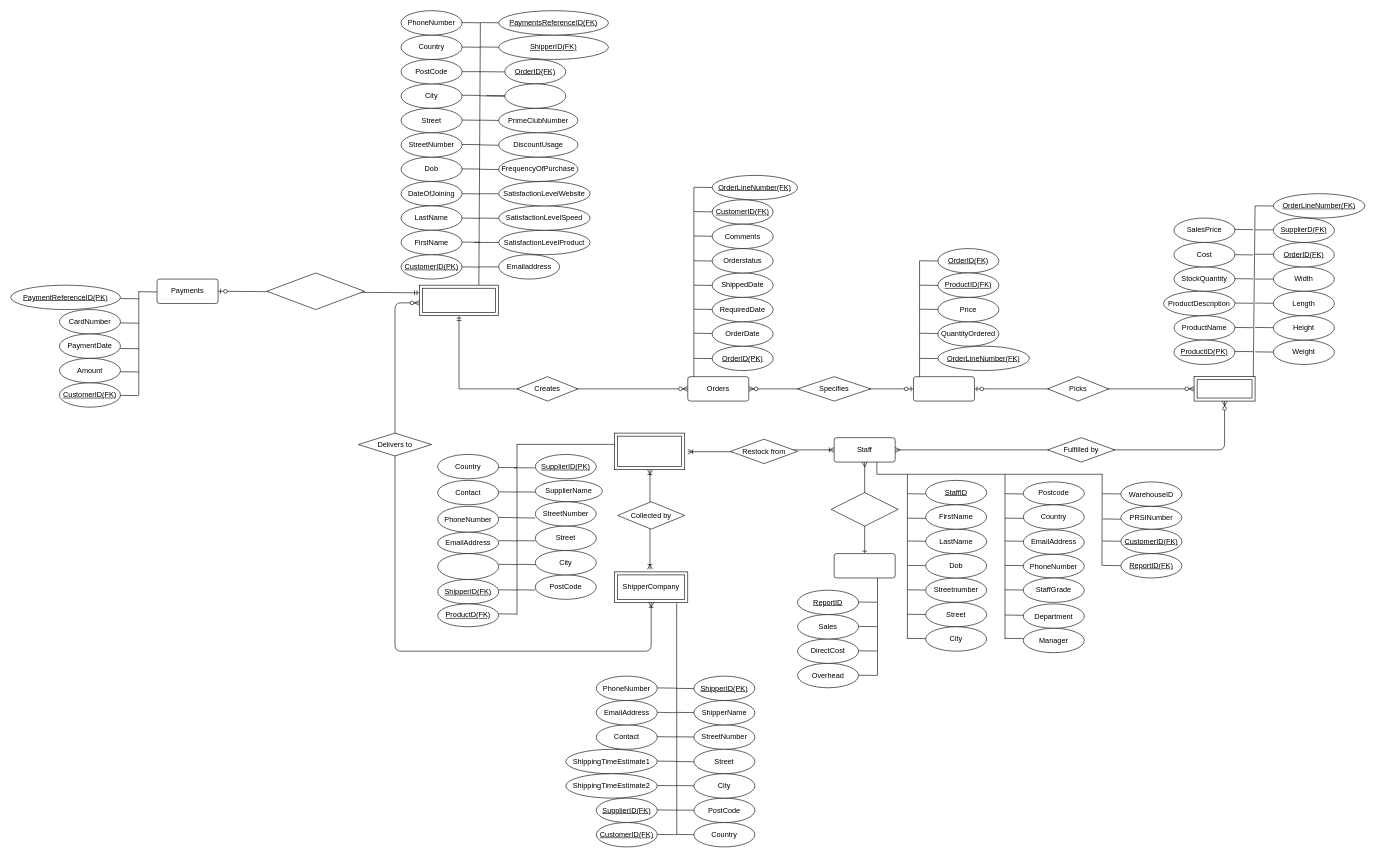
Some shapes in this 1376 by 858 pixel diagram are drawn without their labels. Here are the shapes that lost their labels. From the top down, the centre of each, then its label:
At pixel 535 95: "StaffID{FK)".
At pixel 315 291: "Holds payment details".
At pixel 459 300: "Customer".
At pixel 943 388: "OrderDetails".
At pixel 1224 388: "Products".
At pixel 649 451: "Suppliers".
At pixel 864 509: "SendsData to".
At pixel 468 566: "RTMNumber".
At pixel 864 565: "Reporting".
